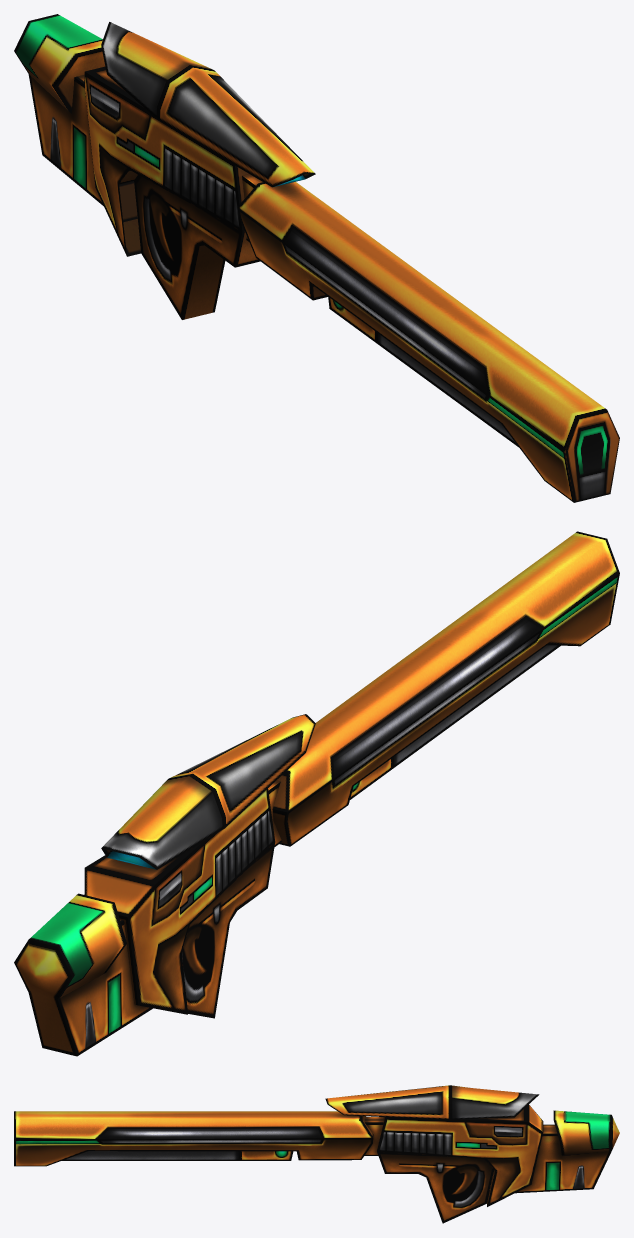
The model's file is weapon_sniper_01.FBX.
The picture shows the model from 3 angles, top to bottom: view 1: azimuth 30°, elevation 25°; view 2: azimuth 150°, elevation 25°; view 3: azimuth 270°, elevation 25°; orthographic projection. The views are drawn at different scales.
Parts seen in each view (by area): view 1: weapon_sniper_01; view 2: weapon_sniper_01; view 3: weapon_sniper_01.
Boxes of the visible parts, left/top/right/bottom form: weapon_sniper_01: left=14, top=14, right=619, bottom=502; weapon_sniper_01: left=14, top=531, right=619, bottom=1056; weapon_sniper_01: left=14, top=1085, right=619, bottom=1223.
Size of the model in its own units: 22.03 by 70.83 by 292.
